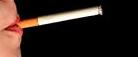smoke: (13, 5, 103, 29)
